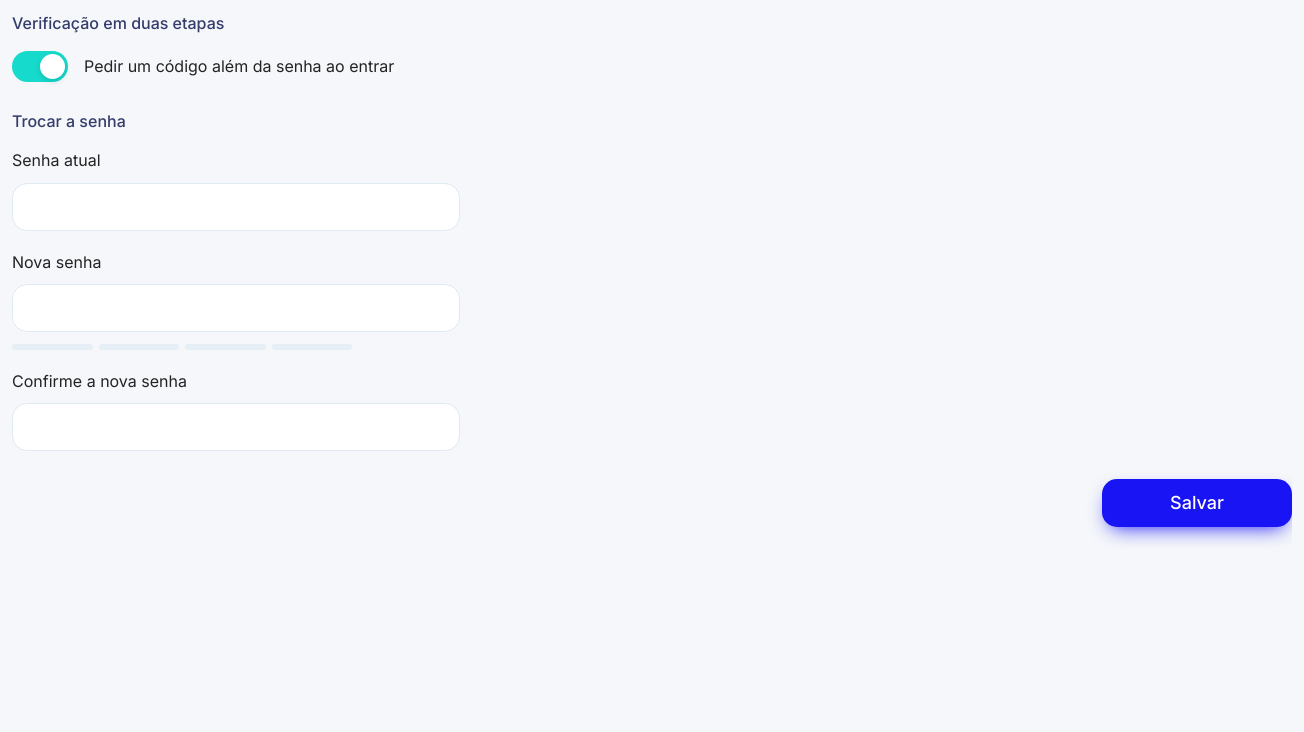
Test: o medidor diz a força da nova senha
Type "Casaverde1!x" into the password field labelled "Nova senha". click: (236, 308)
box: [12,284,460,332]
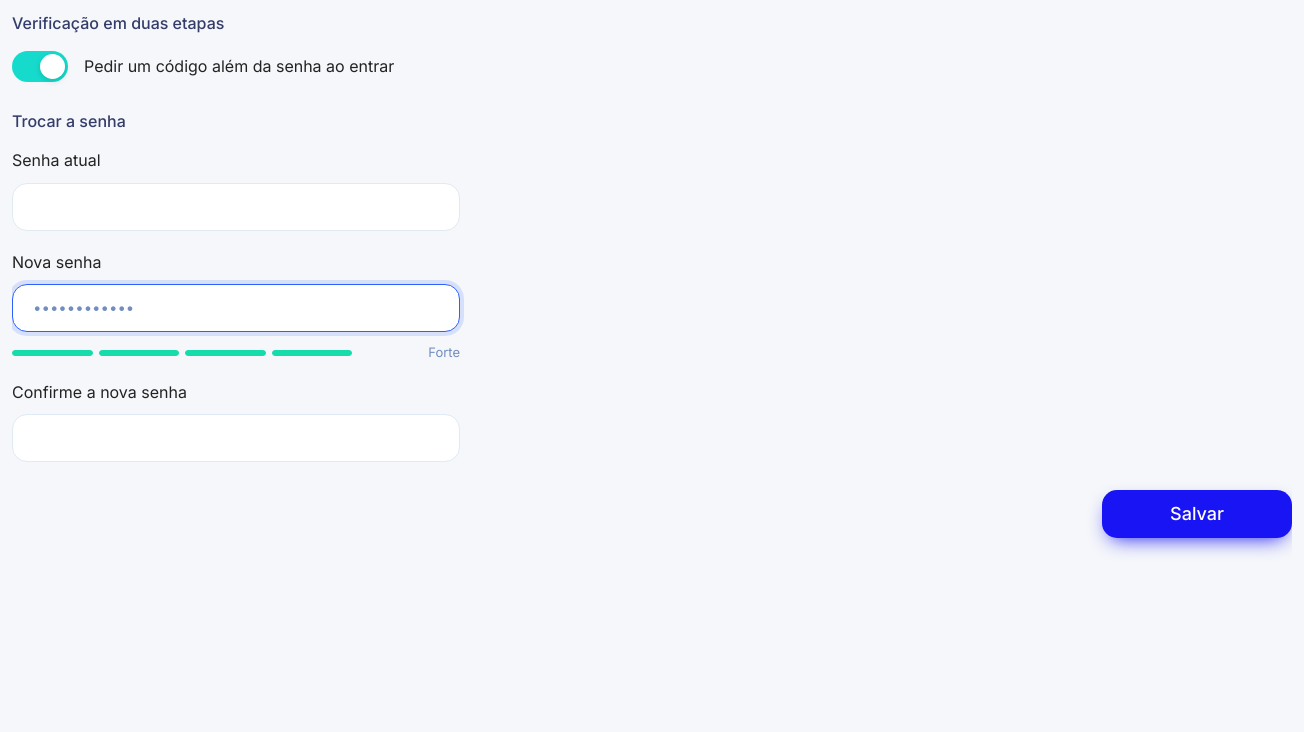
Expected: the text "Forte" is shown, [428,344,460,360]
